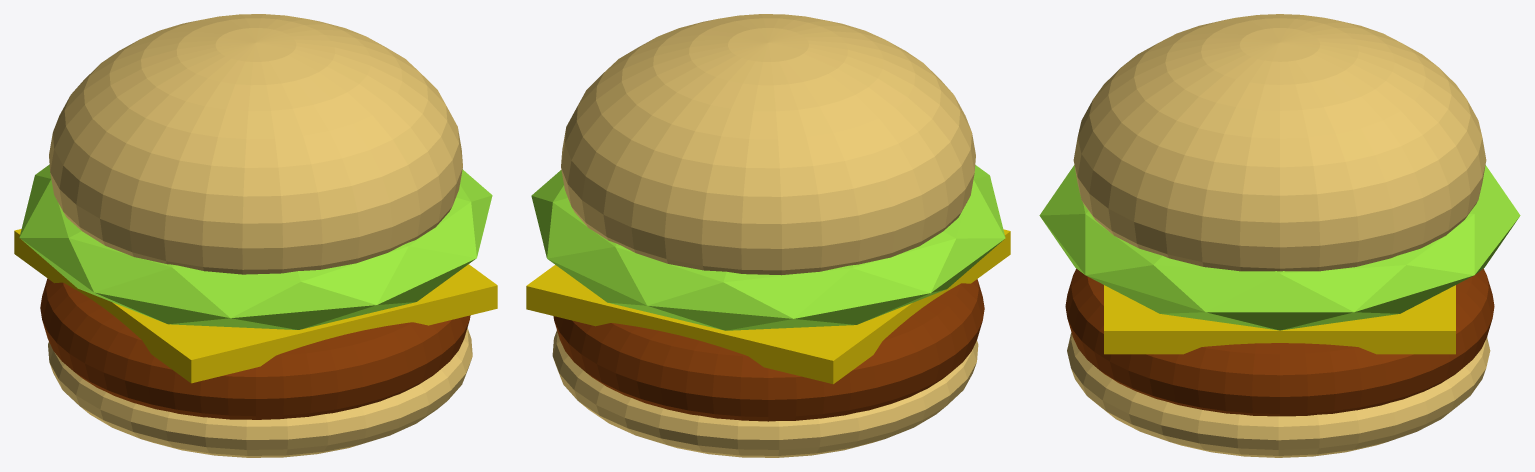
The model's file is Burger.glb.
3 renders of one model, left to right at view 1: azimuth 30°, elevation 25°; view 2: azimuth 150°, elevation 25°; view 3: azimuth 270°, elevation 25°, orthographic.
Visible parts, largest first — view 1: rechts, links; view 2: links, rechts; view 3: rechts, links.
Part boxes in pixels (x1=…): rechts: x1=14, y1=14, x2=497, y2=457; links: x1=14, y1=14, x2=244, y2=449; links: x1=526, y1=56, x2=1010, y2=457; rechts: x1=526, y1=14, x2=1010, y2=426; rechts: x1=1039, y1=17, x2=1486, y2=457; links: x1=1206, y1=14, x2=1520, y2=394.
Size of the model in its own units: 3.21 by 2.83 by 3.38.
